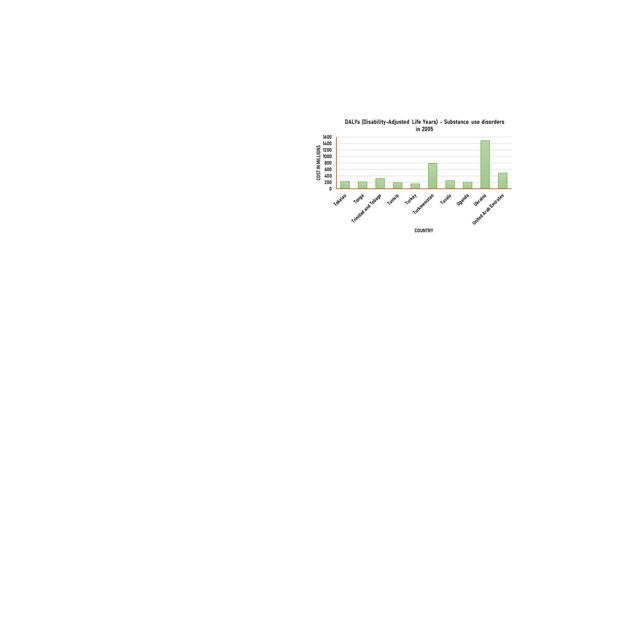Graph: (311, 114, 515, 237)
